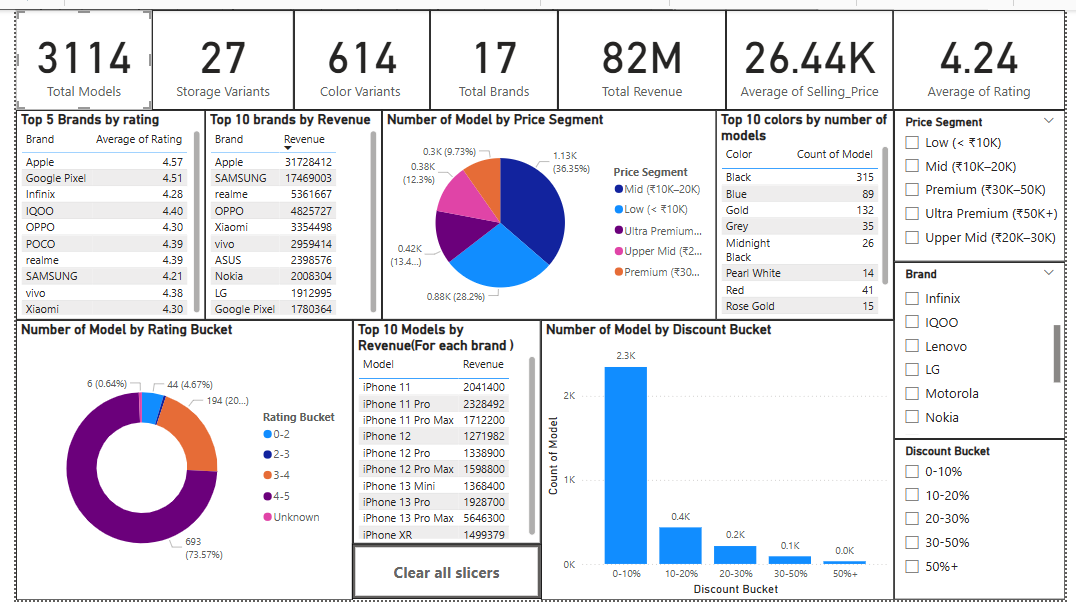

This screenshot's page, from the dashboard's own definition file:
{"tool":"powerbi","page":{"name":"Dashboard","canvas":[1280,720],"ordinal":1},"visuals":[{"type":"card","fields":{"Values":["CountNonNull(Flipkart_Mobiles.Model)"]},"box":[0,0,166,121.7],"z":0},{"type":"card","fields":{"Values":["Count(Flipkart_Mobiles.Brand)"]},"box":[505.4,0,156.2,121.7],"z":1000},{"type":"card","fields":{"Values":["Count(Flipkart_Mobiles.Color)"]},"box":[339.4,0,166,121.7],"z":2000},{"type":"card","fields":{"Values":["Avg(Flipkart_Mobiles.Rating)"]},"box":[1069.7,0,210.3,121.7],"z":3000},{"type":"card","fields":{"Values":["Count(Flipkart_Mobiles.Storage)"]},"box":[166,0,173.4,121.7],"z":4000},{"type":"card","fields":{"Values":["Avg(Flipkart_Mobiles.Selling Price)"]},"box":[866.9,0,204.1,121.7],"z":5000},{"type":"slicer","fields":{"Values":["Flipkart_Mobiles.Price Segment"]},"box":[1071.5,122,208.7,185.5],"z":6000},{"type":"slicer","fields":{"Values":["Flipkart_Mobiles.Brand"]},"box":[1071.5,307.5,208.7,216],"z":7000},{"type":"slicer","fields":{"Values":["Flipkart_Mobiles.Discount Bucket"]},"box":[1071.2,523.4,208.8,195.9],"z":8000},{"type":"tableEx","title":"Top 5 Brands by rating ","fields":{"Values":["Flipkart_Mobiles.Brand","Avg(Flipkart_Mobiles.Rating)"]},"box":[0,122,230.6,256.3],"z":9000},{"type":"tableEx","title":"Top 10 brands by Revenue ","fields":{"Values":["Flipkart_Mobiles.Brand","Sum(Flipkart_Mobiles.Selling_Price)"]},"box":[230.6,122,216,256.3],"z":10000},{"type":"donutChart","title":"Number of Model by Rating Bucket","fields":{"Series":["Flipkart_Mobiles.Rating Bucket"],"Y":["Count(Flipkart_Mobiles.Model)"]},"box":[0,378.3,411.3,341.7],"z":11000},{"type":"columnChart","title":"Number of Model by Discount Bucket","fields":{"Category":["Flipkart_Mobiles.Discount Bucket"],"Y":["CountNonNull(Flipkart_Mobiles.Model)"]},"box":[640.7,378.3,430.8,341.7],"z":12000},{"type":"card","fields":{"Values":["Sum(Flipkart_Mobiles.Selling_Price)"]},"box":[661.5,0,205.3,121.7],"z":13000},{"type":"tableEx","title":"Top 10 Models by Revenue(For each brand )","fields":{"Values":["Flipkart_Mobiles.Model","Sum(Flipkart_Mobiles.Selling_Price)"]},"box":[411.3,378.3,229.4,273.4],"z":14000},{"type":"tableEx","title":"Top 10 colors by number of models","fields":{"Values":["Flipkart_Mobiles.Color","Flipkart_Mobiles.Model"]},"box":[854.2,122,217.2,256.3],"z":15000},{"type":"pieChart","title":"Number of Model by Price Segment","fields":{"Category":["Flipkart_Mobiles.Price Segment"],"Y":["CountNonNull(Flipkart_Mobiles.Model)"]},"box":[446.6,122,407.6,256.3],"z":16000},{"type":"actionButton","box":[410,651.7,230.6,67.1],"z":17000}]}

Visuals, with their boxes in screenshot pixels (x1, y1, x2, y2), scaled from the page's 1280x720 canvas onto the 1076x608 screenshot:
card - CountNonNull(Flipkart_Mobiles.Model): (0,0,140,103)
card - Count(Flipkart_Mobiles.Brand): (425,0,556,103)
card - Count(Flipkart_Mobiles.Color): (285,0,425,103)
card - Avg(Flipkart_Mobiles.Rating): (899,0,1075,103)
card - Count(Flipkart_Mobiles.Storage): (140,0,285,103)
card - Avg(Flipkart_Mobiles.Selling Price): (729,0,900,103)
slicer - Flipkart_Mobiles.Price Segment: (901,103,1075,260)
slicer - Flipkart_Mobiles.Brand: (901,260,1075,442)
slicer - Flipkart_Mobiles.Discount Bucket: (900,442,1075,607)
"Top 5 Brands by rating " tableEx: (0,103,194,319)
"Top 10 brands by Revenue " tableEx: (194,103,375,319)
"Number of Model by Rating Bucket" donutChart: (0,319,346,607)
"Number of Model by Discount Bucket" columnChart: (539,319,901,607)
card - Sum(Flipkart_Mobiles.Selling_Price): (556,0,729,103)
"Top 10 Models by Revenue(For each brand )" tableEx: (346,319,539,550)
"Top 10 colors by number of models" tableEx: (718,103,901,319)
"Number of Model by Price Segment" pieChart: (375,103,718,319)
actionButton: (345,550,539,607)
